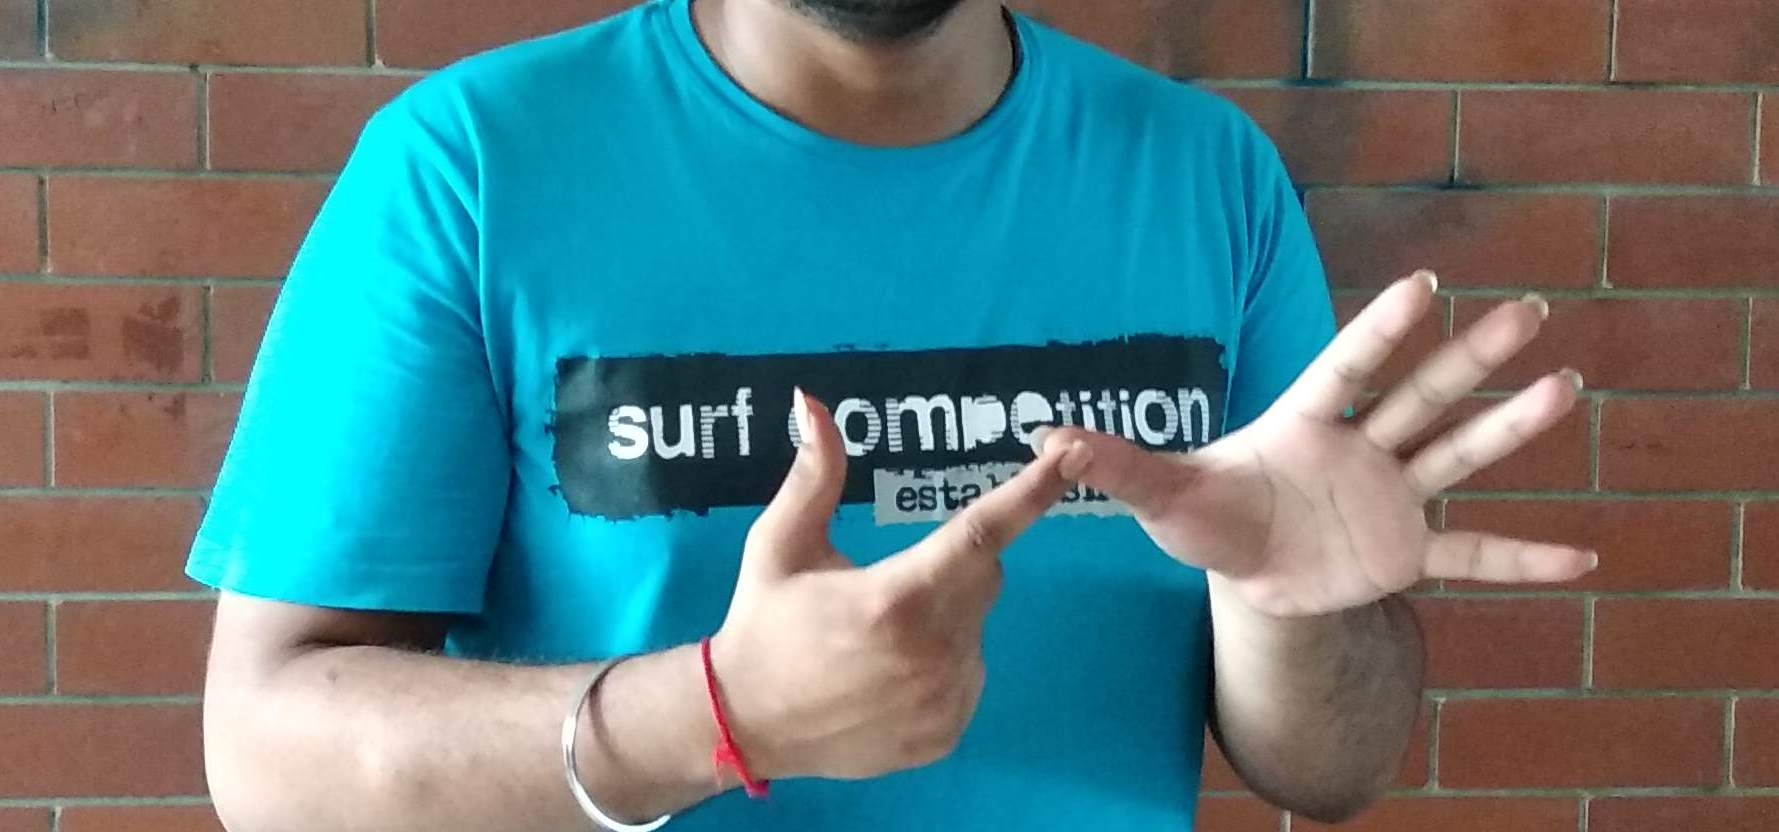a: (701, 263, 1533, 751)
